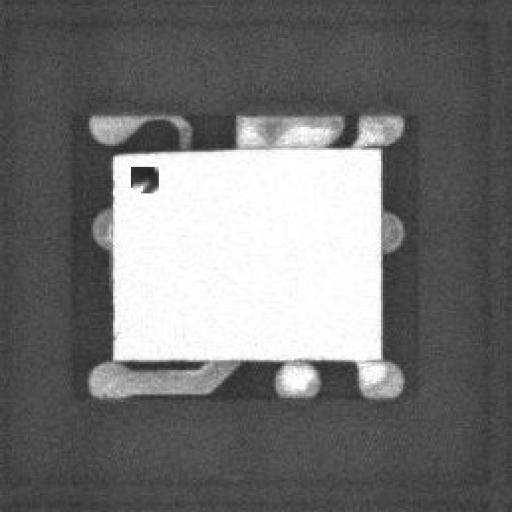DIE_INK: (125, 160, 163, 194)
